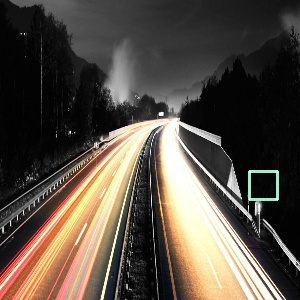square: (245, 168, 283, 203)
